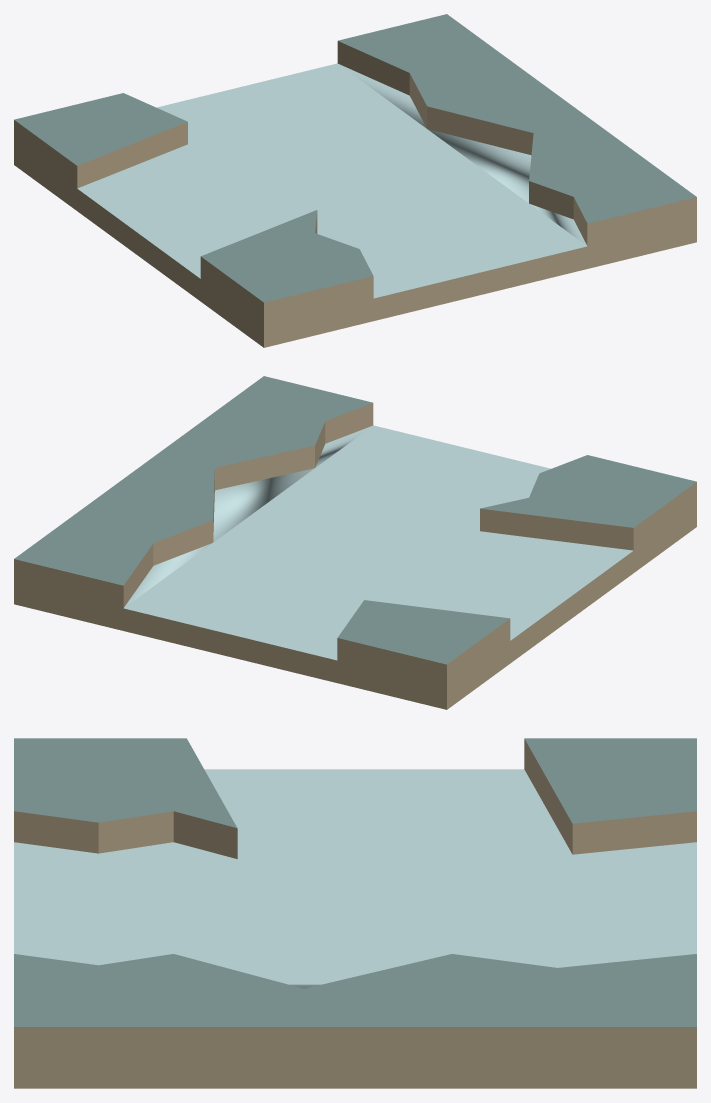
Rendered from Nature River 11.fbx.
3 renders of one model, top to bottom at view 1: azimuth 30°, elevation 25°; view 2: azimuth 150°, elevation 25°; view 3: azimuth 270°, elevation 25°, orthographic. The views are drawn at different scales.
Visible parts, largest first — view 1: Nature River 11; view 2: Nature River 11; view 3: Nature River 11.
Boxes of the visible parts, bbox=[...] form: Nature River 11: bbox=[14, 14, 696, 347]; Nature River 11: bbox=[14, 376, 696, 709]; Nature River 11: bbox=[14, 738, 696, 1088].
Size of the model in its own units: 3 by 0.3 by 3.
